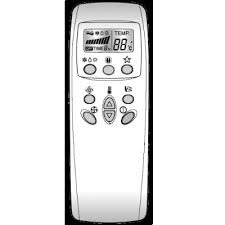remote control: (66, 2, 152, 223)
